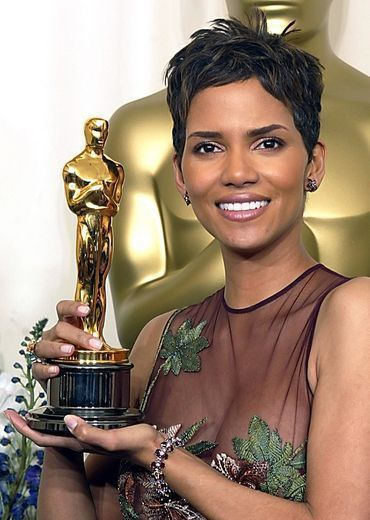hand: (29, 305, 112, 410)
